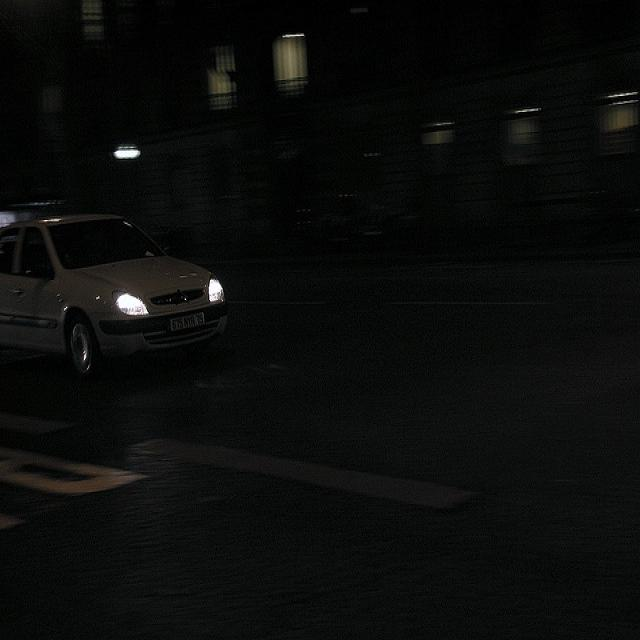Car: (0, 208, 225, 382)
